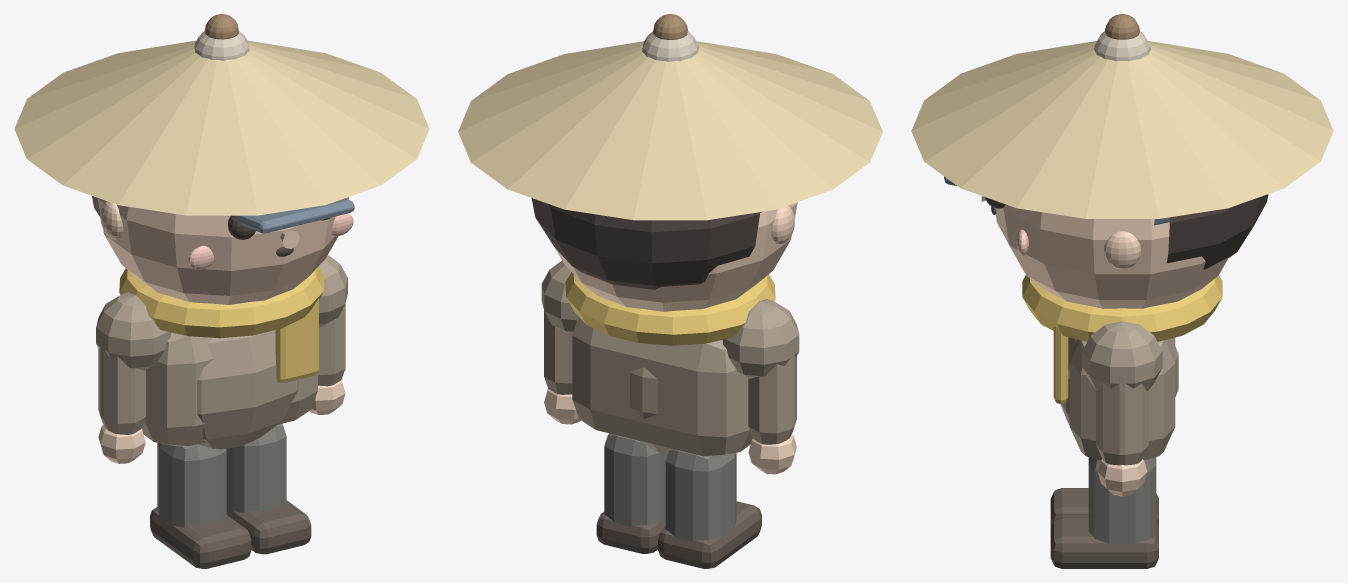
File: character-crowdopt1-20261109.glb
The picture shows the model from 3 angles, left to right: view 1: azimuth 30°, elevation 25°; view 2: azimuth 150°, elevation 25°; view 3: azimuth 270°, elevation 25°; orthographic projection. The views are drawn at different scales.
Visible parts, largest first — view 1: HatNonLa, Torso, Head, Scarf, LegL, LegR, ArmL, ArmR, HatCap, HatBeanie; view 2: HatNonLa, Torso, Head, LegL, Scarf, LegR, ArmL, ArmR, HatBeanie; view 3: HatNonLa, Head, Torso, LegR, Scarf, ArmR, LegL, HatBeanie.
Boxes of the visible parts, bbox=[...] form: HatNonLa: bbox=[14, 14, 429, 215]; Torso: bbox=[96, 255, 347, 449]; Head: bbox=[92, 196, 353, 304]; Scarf: bbox=[119, 266, 324, 382]; LegL: bbox=[150, 442, 251, 568]; LegR: bbox=[226, 424, 311, 554]; ArmL: bbox=[98, 339, 145, 463]; ArmR: bbox=[309, 304, 345, 414]; HatCap: bbox=[237, 198, 354, 233]; HatBeanie: bbox=[194, 31, 249, 60]; HatNonLa: bbox=[458, 14, 882, 220]; Torso: bbox=[541, 261, 799, 456]; Head: bbox=[531, 198, 797, 311]; LegL: bbox=[658, 450, 761, 568]; Scarf: bbox=[565, 272, 775, 345]; LegR: bbox=[596, 433, 667, 553]; ArmL: bbox=[748, 346, 796, 474]; ArmR: bbox=[544, 311, 580, 424]; HatBeanie: bbox=[642, 31, 698, 61]; HatNonLa: bbox=[911, 14, 1333, 218]; Head: bbox=[981, 194, 1268, 308]; Torso: bbox=[1060, 321, 1178, 460]; LegR: bbox=[1050, 457, 1158, 568]; Scarf: bbox=[1022, 275, 1222, 404]; ArmR: bbox=[1096, 375, 1148, 496]; LegL: bbox=[1050, 488, 1158, 527]; HatBeanie: bbox=[1094, 31, 1150, 61].
Bounding box in the file's own units: 1.42 × 1.99 × 1.44.
